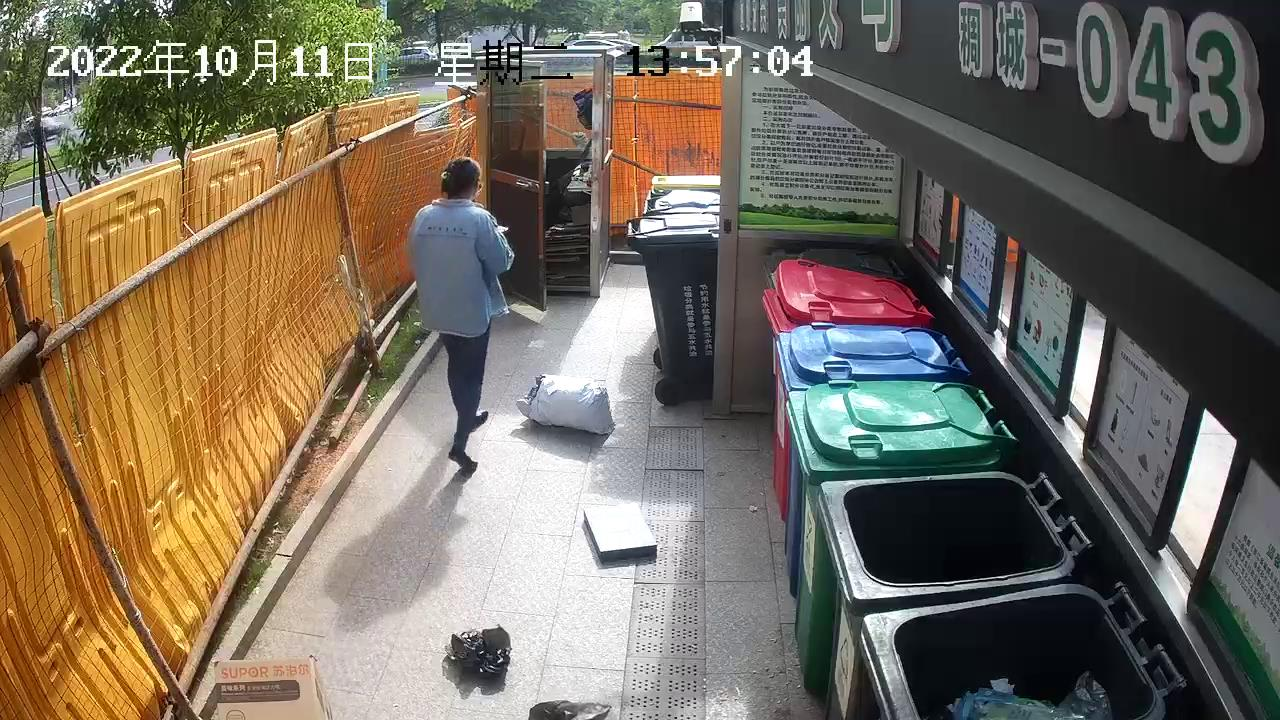garbage: (512, 368, 619, 441), (440, 618, 517, 685)
worker: (401, 151, 519, 476)
zhizhipin: (206, 651, 344, 720)
